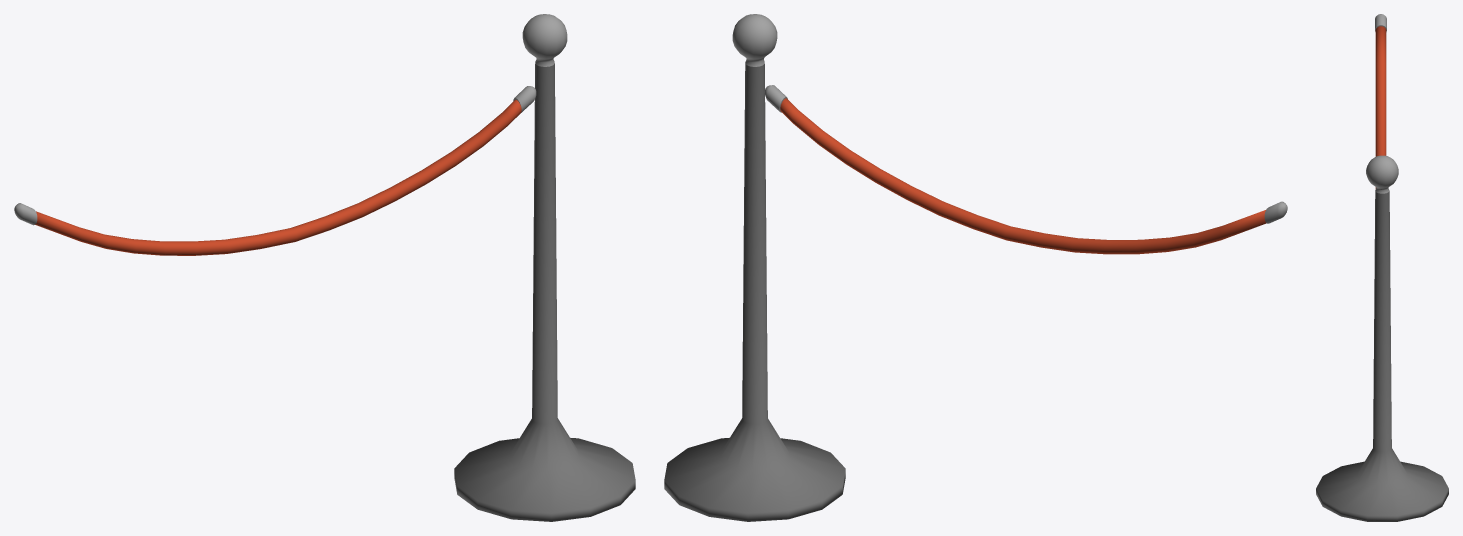
File: MuseumBarrier_Half.fbx
The picture shows the model from 3 angles, left to right: view 1: azimuth 30°, elevation 25°; view 2: azimuth 150°, elevation 25°; view 3: azimuth 270°, elevation 25°; orthographic projection. The views are drawn at different scales.
Visible parts, largest first — view 1: MuseumBarrier_Half; view 2: MuseumBarrier_Half; view 3: MuseumBarrier_Half.
Boxes of the visible parts, bbox=[...] form: MuseumBarrier_Half: bbox=[14, 14, 635, 521]; MuseumBarrier_Half: bbox=[664, 14, 1287, 521]; MuseumBarrier_Half: bbox=[1316, 14, 1448, 521].
Bounding box in the file's own units: 204 × 150 × 53.32.
